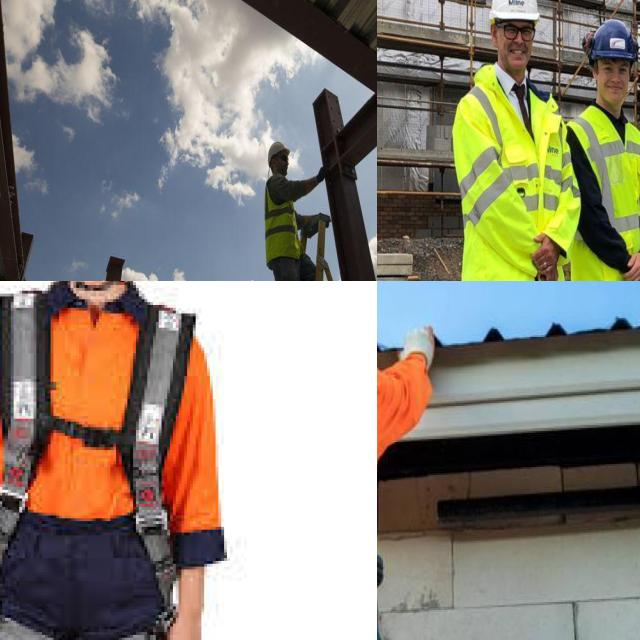Harness: (0, 287, 197, 640)
face_nomask: (498, 13, 534, 76), (595, 61, 633, 105)
glasses: (500, 18, 536, 46)
hand_noglove: (533, 232, 564, 281), (617, 251, 640, 281)
head_helmet: (588, 19, 638, 64), (490, 0, 540, 24), (268, 142, 290, 161)
person: (458, 0, 569, 281), (569, 18, 640, 281), (264, 141, 326, 281)
vest: (453, 61, 572, 281), (565, 113, 640, 281), (263, 175, 302, 264)
